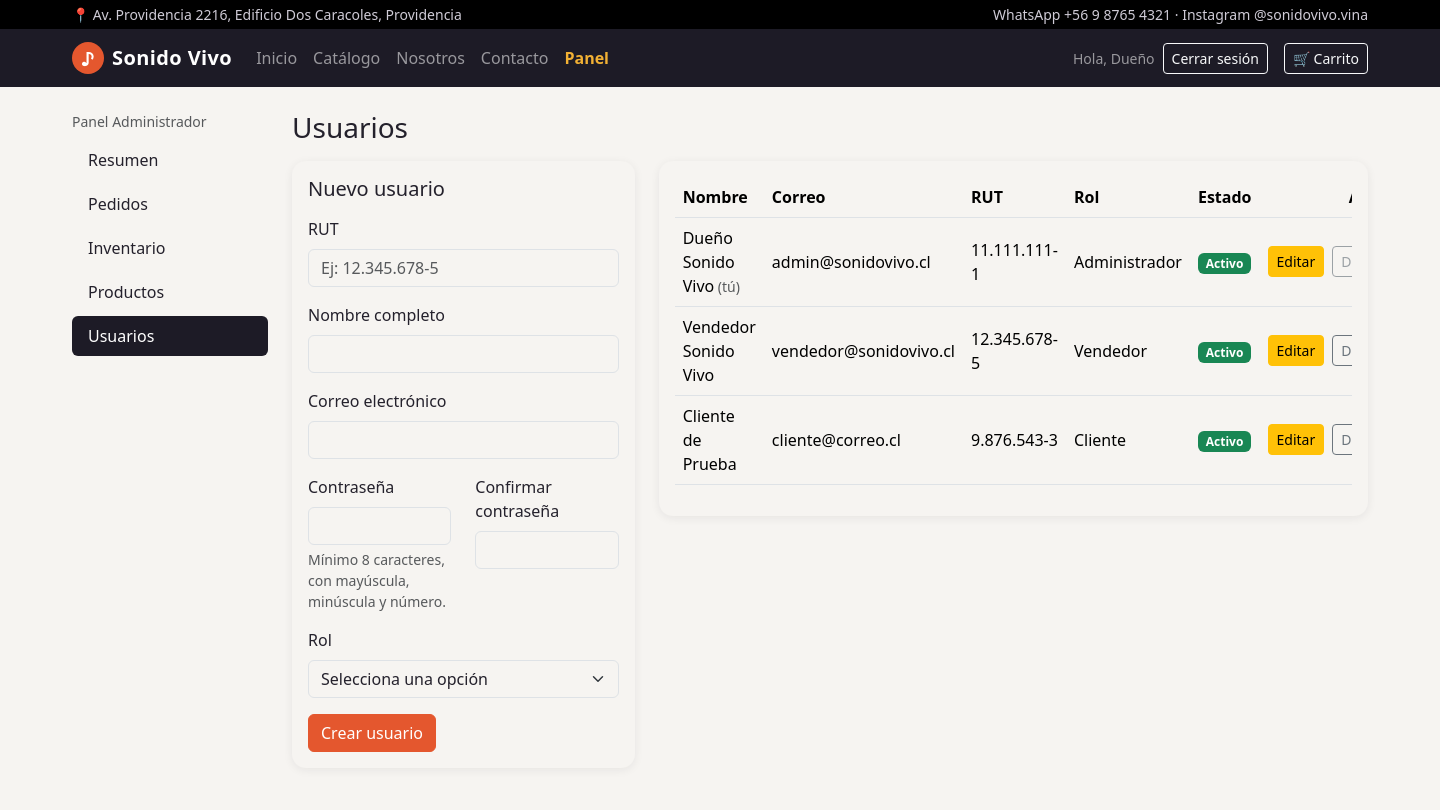
Scenario: Panel de administración › Usuarios: el administrador no puede cambiar su propio rol
This screenshot has width=1440, height=810.
Click the button "Editar" in the row of "Dueño Sonido Vivo" at x=1296, y=262, box [1268,246,1324,277]
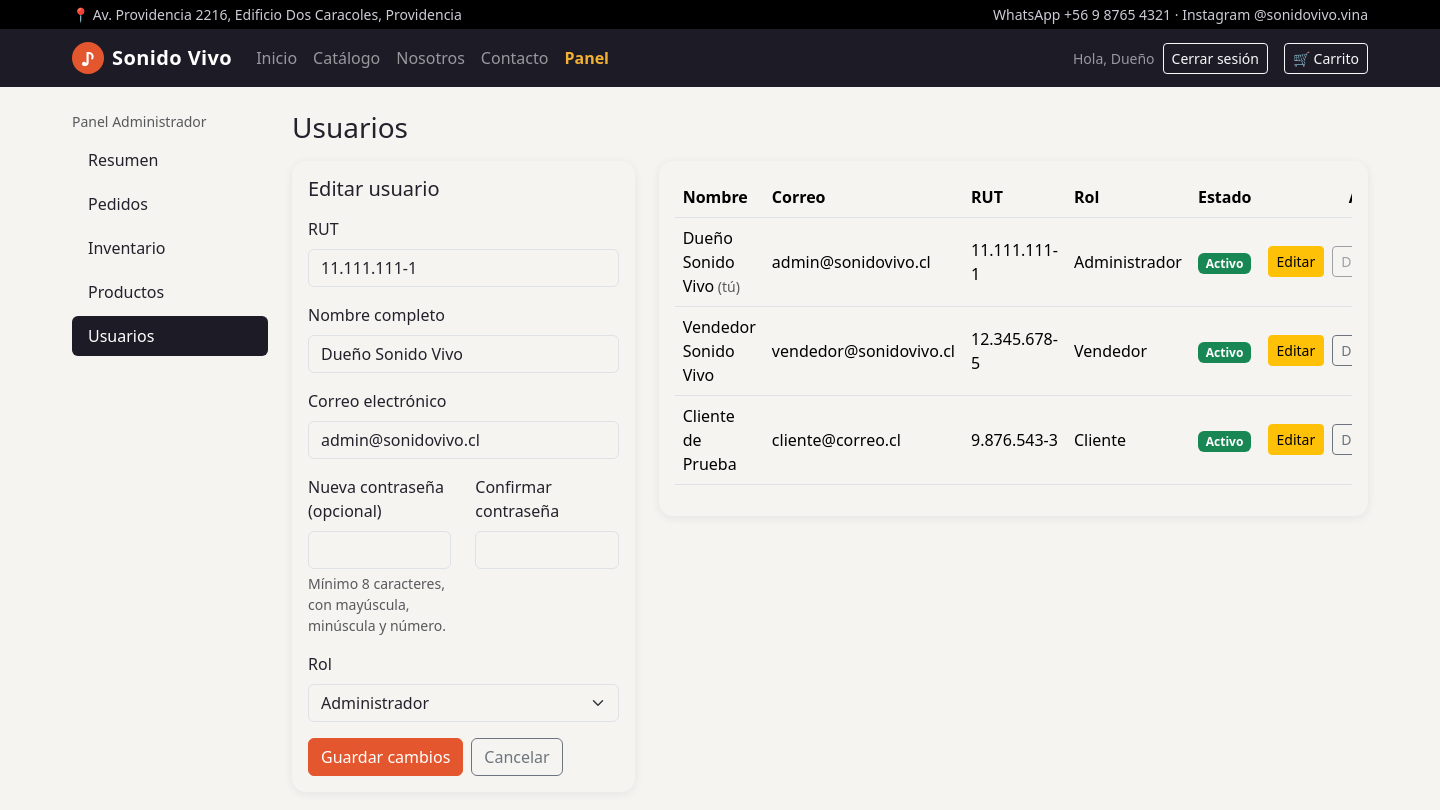
Select "Cliente" in the dropdown labelled "Rol" at x=463, y=703, box [308,684,619,722]
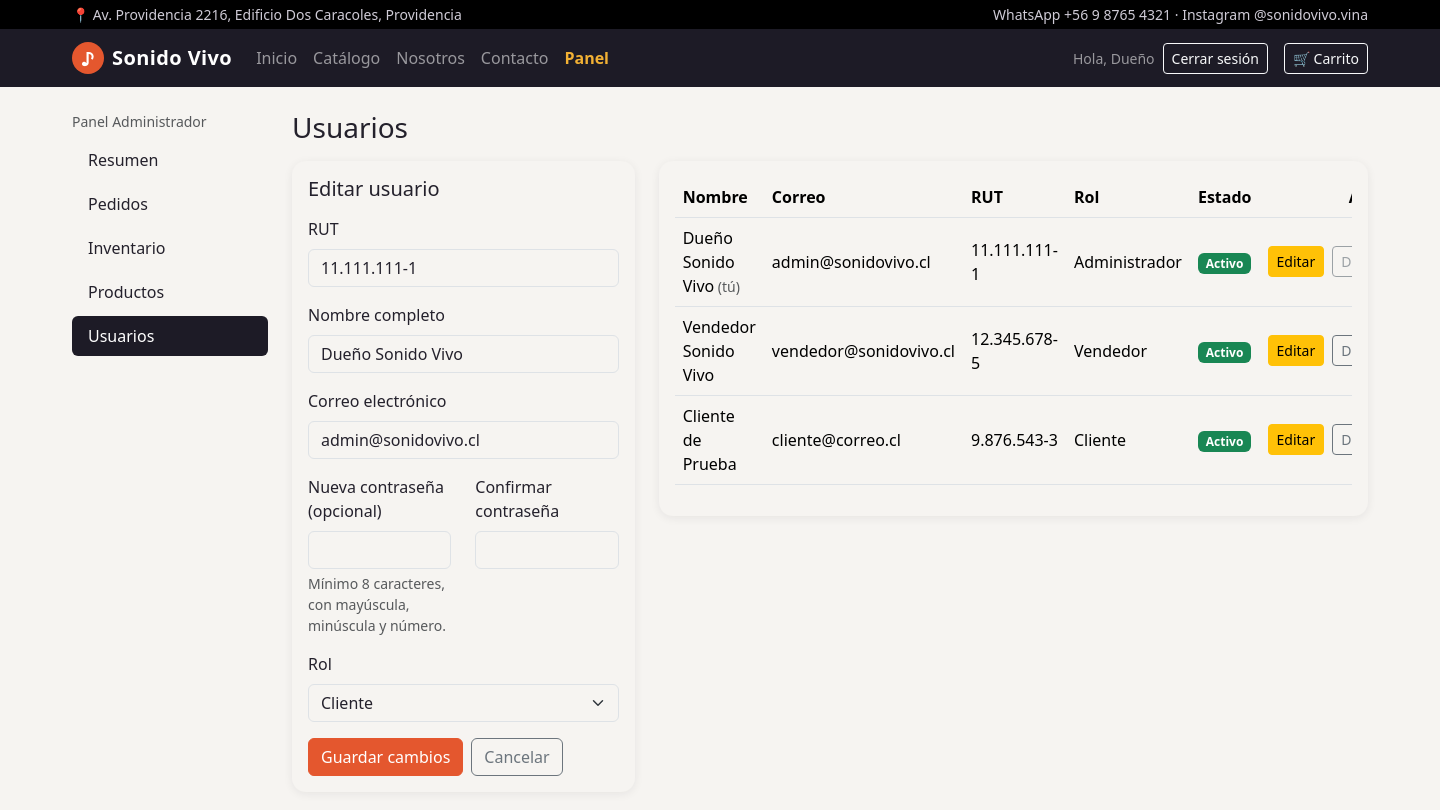
Click the button "Guardar cambios" at x=386, y=757, box [308,738,463,776]
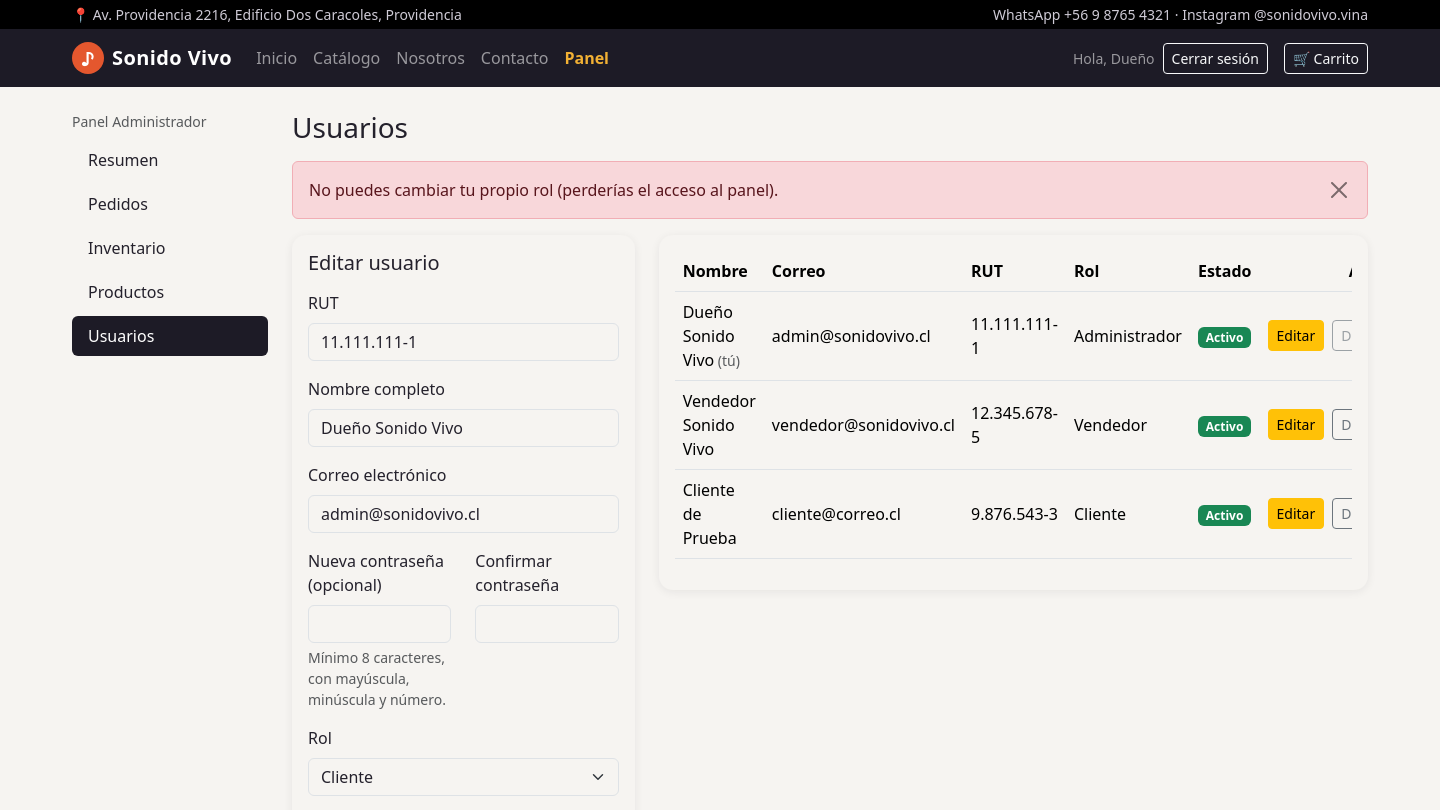
Expected: the text "No puedes cambiar tu propio rol" is shown, [309,179,778,201]
